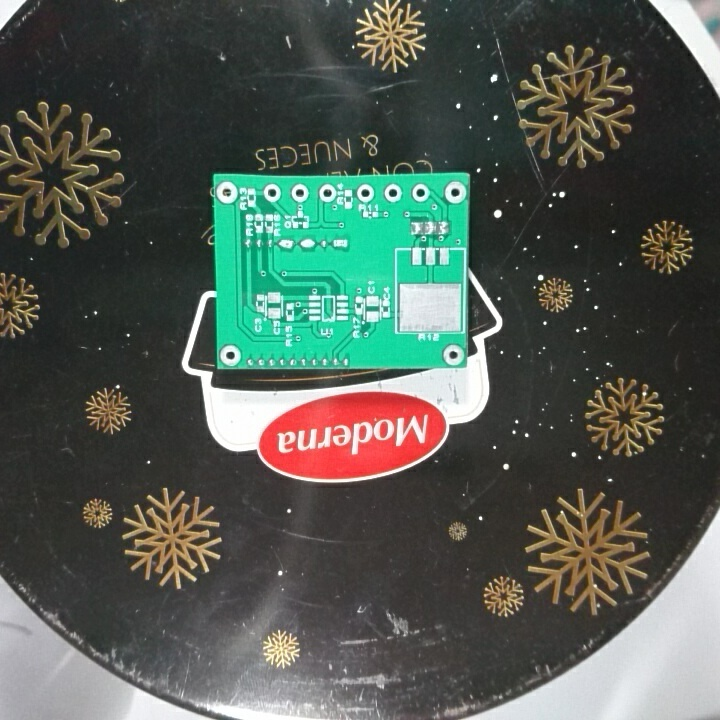F: (442, 180, 467, 205), (217, 343, 242, 368), (215, 180, 238, 206), (441, 344, 465, 366), (382, 182, 404, 204), (410, 181, 431, 203), (354, 183, 377, 203), (289, 182, 310, 203), (261, 182, 282, 203), (317, 182, 337, 204)
P: (329, 235, 352, 252), (275, 235, 297, 252), (297, 235, 317, 252)
